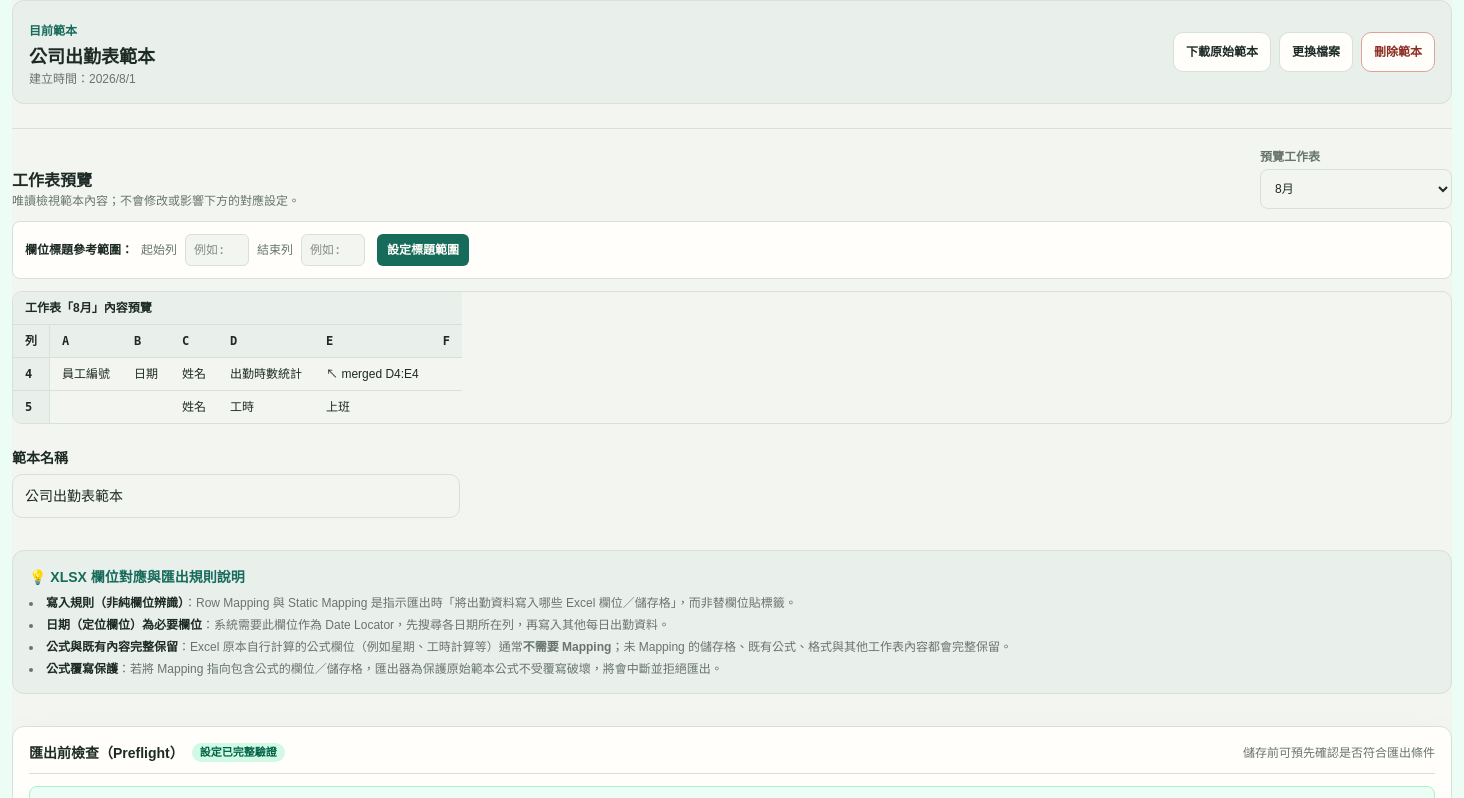
Test case: Component: ExportTemplateSection › Header Reference Range and Preview Selection (Issue #37) › sets header reference range, derives hierarchical labels, and populates column picker options
Type "4" into the number field with test id "header-range-start" at (217,250), box 185,234 -> 249,266
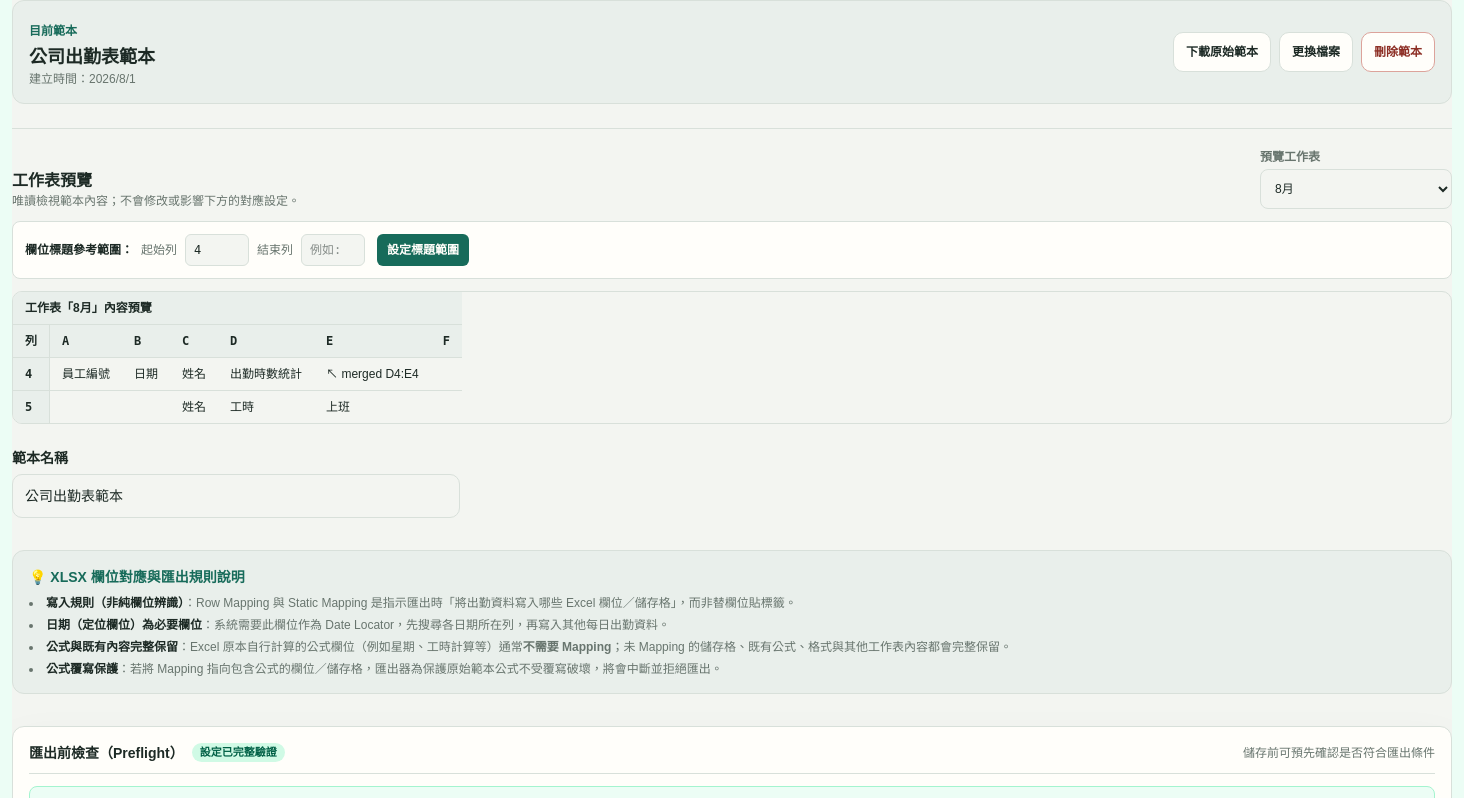
Type "5" into the number field with test id "header-range-end" at (333,250), box 301,234 -> 365,266
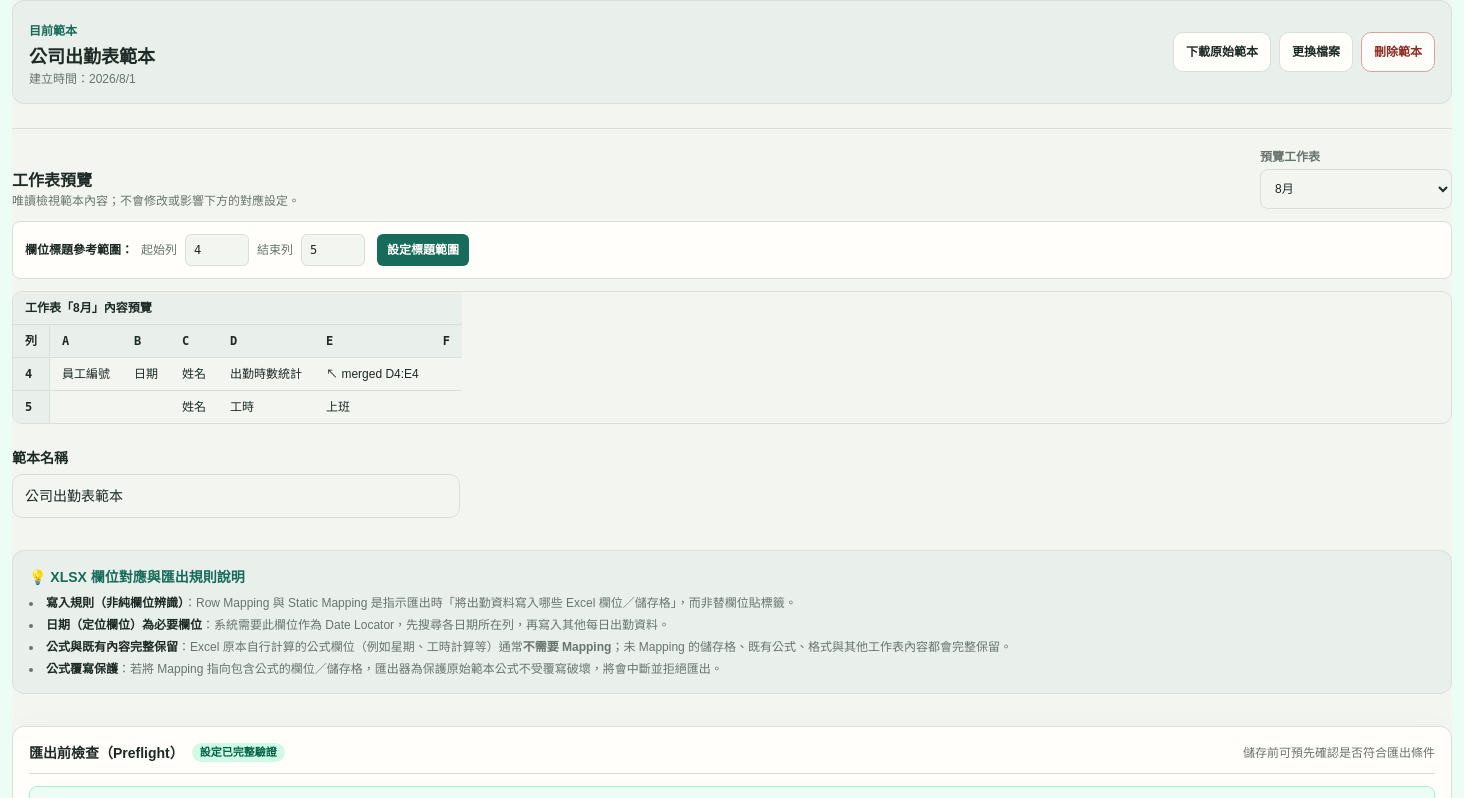
Click the button with test id "apply-header-range-btn" at (423,250), box 377,234 -> 469,266
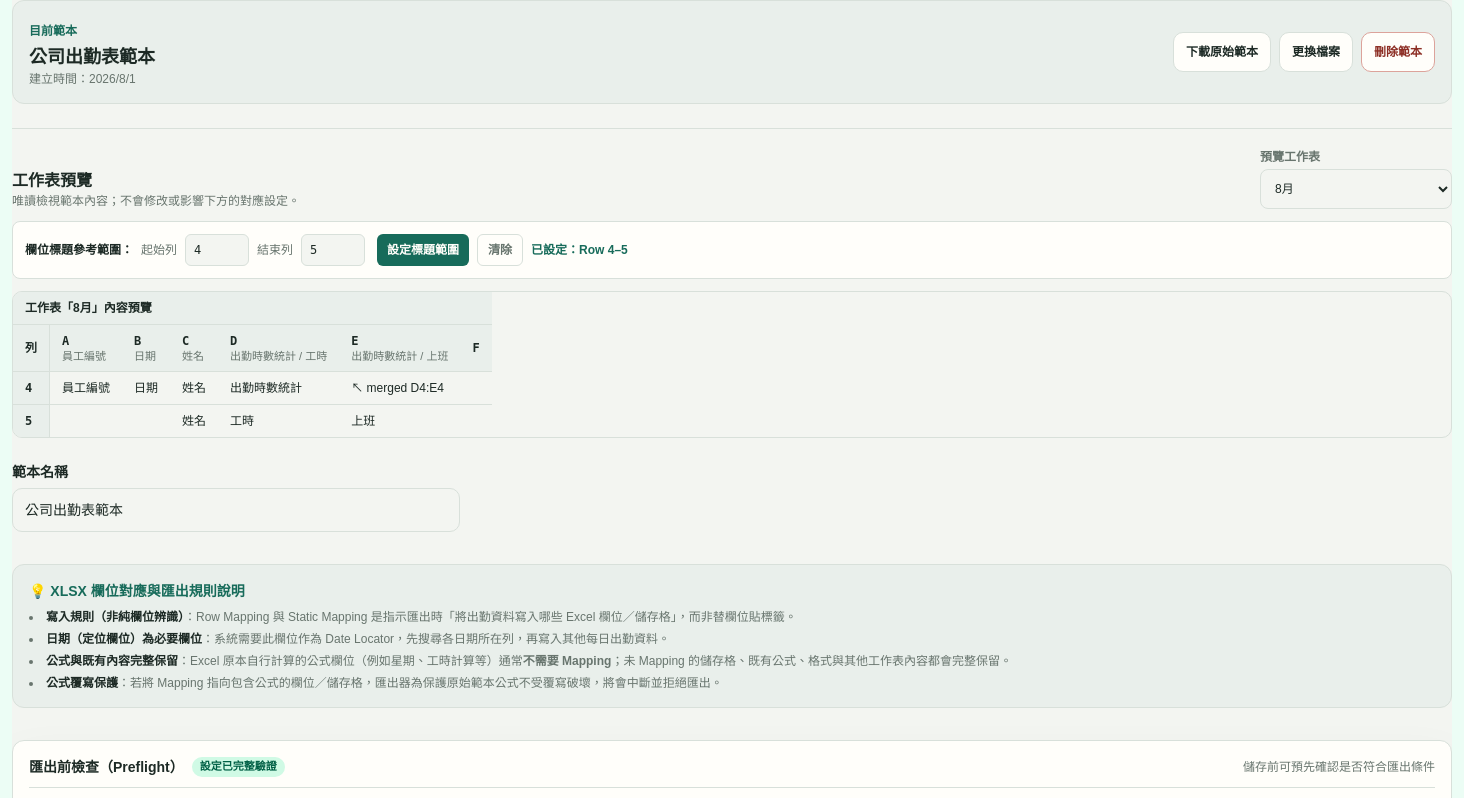
Expected: the text "F" is shown, 472,340 -> 480,356
Now the text "已設定：Row 4–5" is shown, box 531,242 -> 628,258
